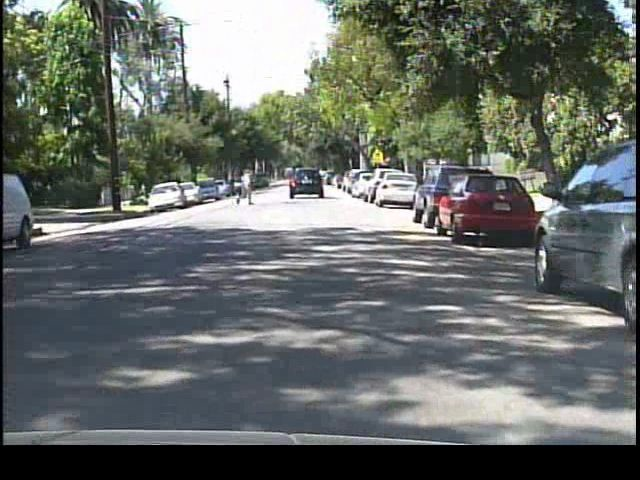person: (235, 161, 258, 206)
